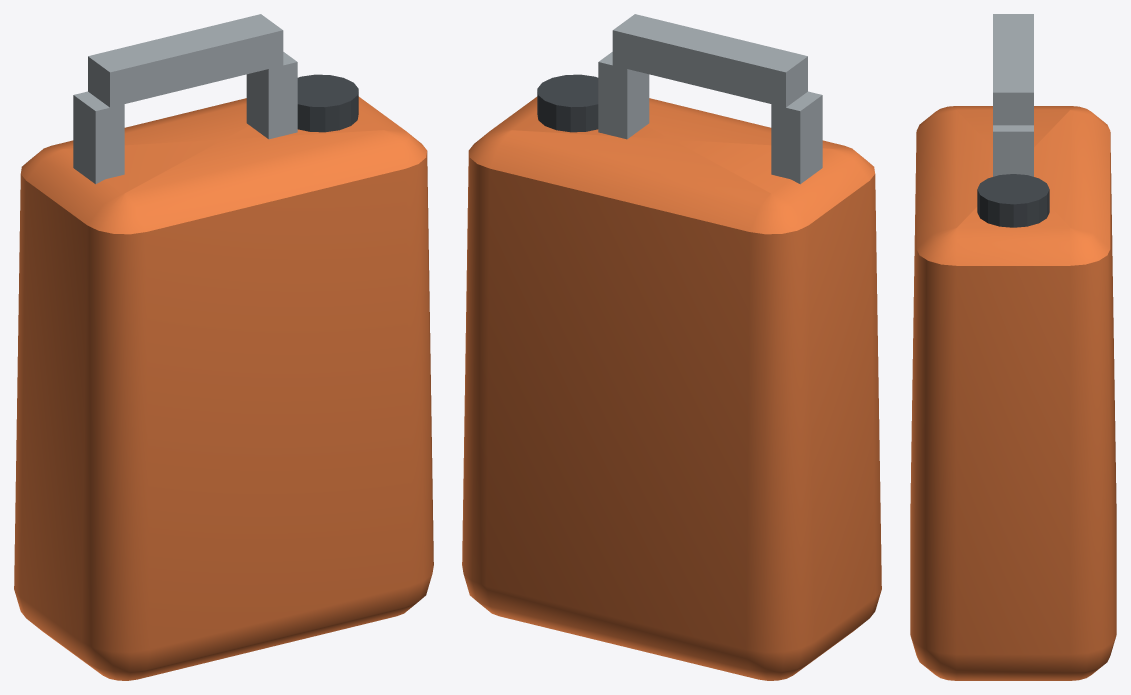
File: long-haul-trucking-and-truck-stop-jerry-can-e645e3a9__13990.glb
3 views of the same model, side by side, from view 1: azimuth 30°, elevation 25°; view 2: azimuth 150°, elevation 25°; view 3: azimuth 270°, elevation 25° (orthographic). The views are drawn at different scales.
Parts seen in each view (by area): view 1: jerry-can; view 2: jerry-can; view 3: jerry-can.
Boxes of the visible parts, left/top/right/bottom form: jerry-can: left=14, top=14, right=433, bottom=680; jerry-can: left=462, top=14, right=881, bottom=680; jerry-can: left=910, top=14, right=1116, bottom=680.
Bounding box in the file's own units: 0.36 × 0.585 × 0.2.
